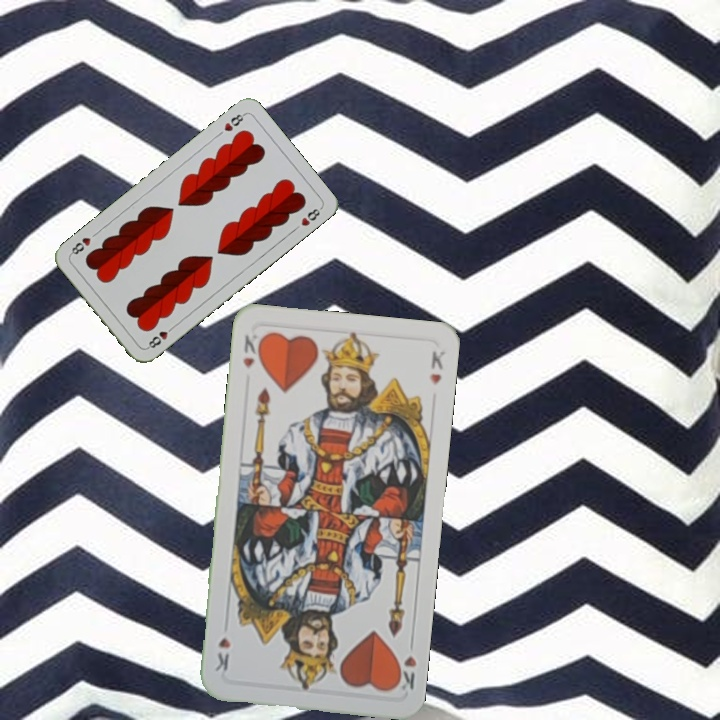H8: (143, 322, 177, 351), (220, 109, 248, 134)
HK: (391, 635, 419, 693), (239, 330, 265, 371)
